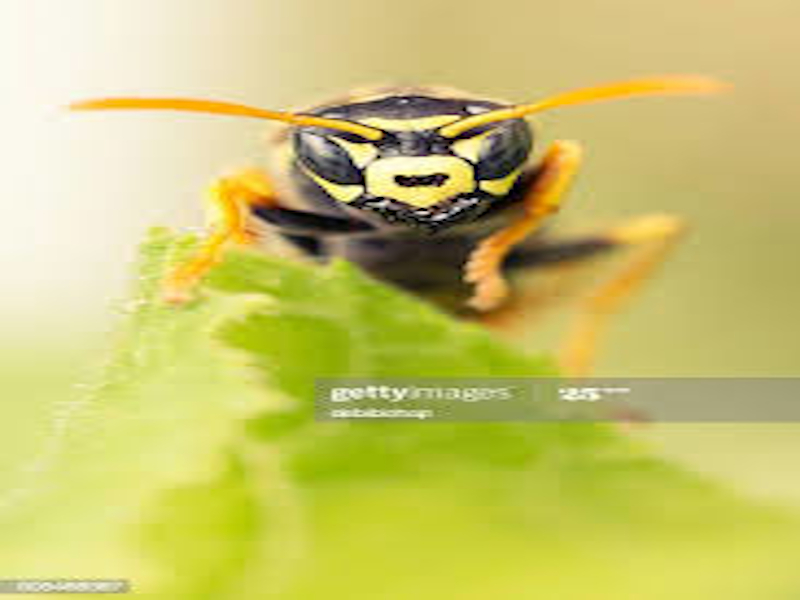chax: (63, 29, 730, 347)
